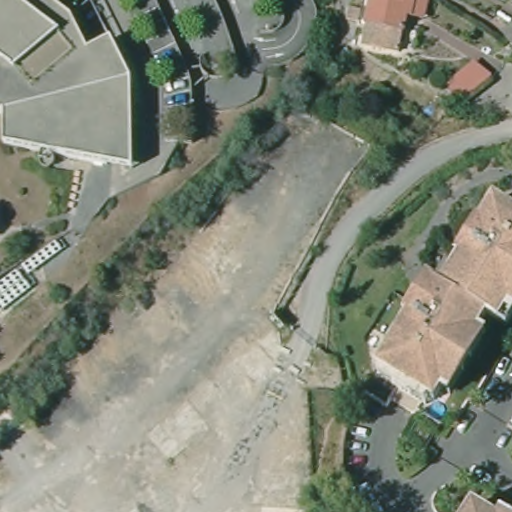pool: (428, 398, 447, 422)
